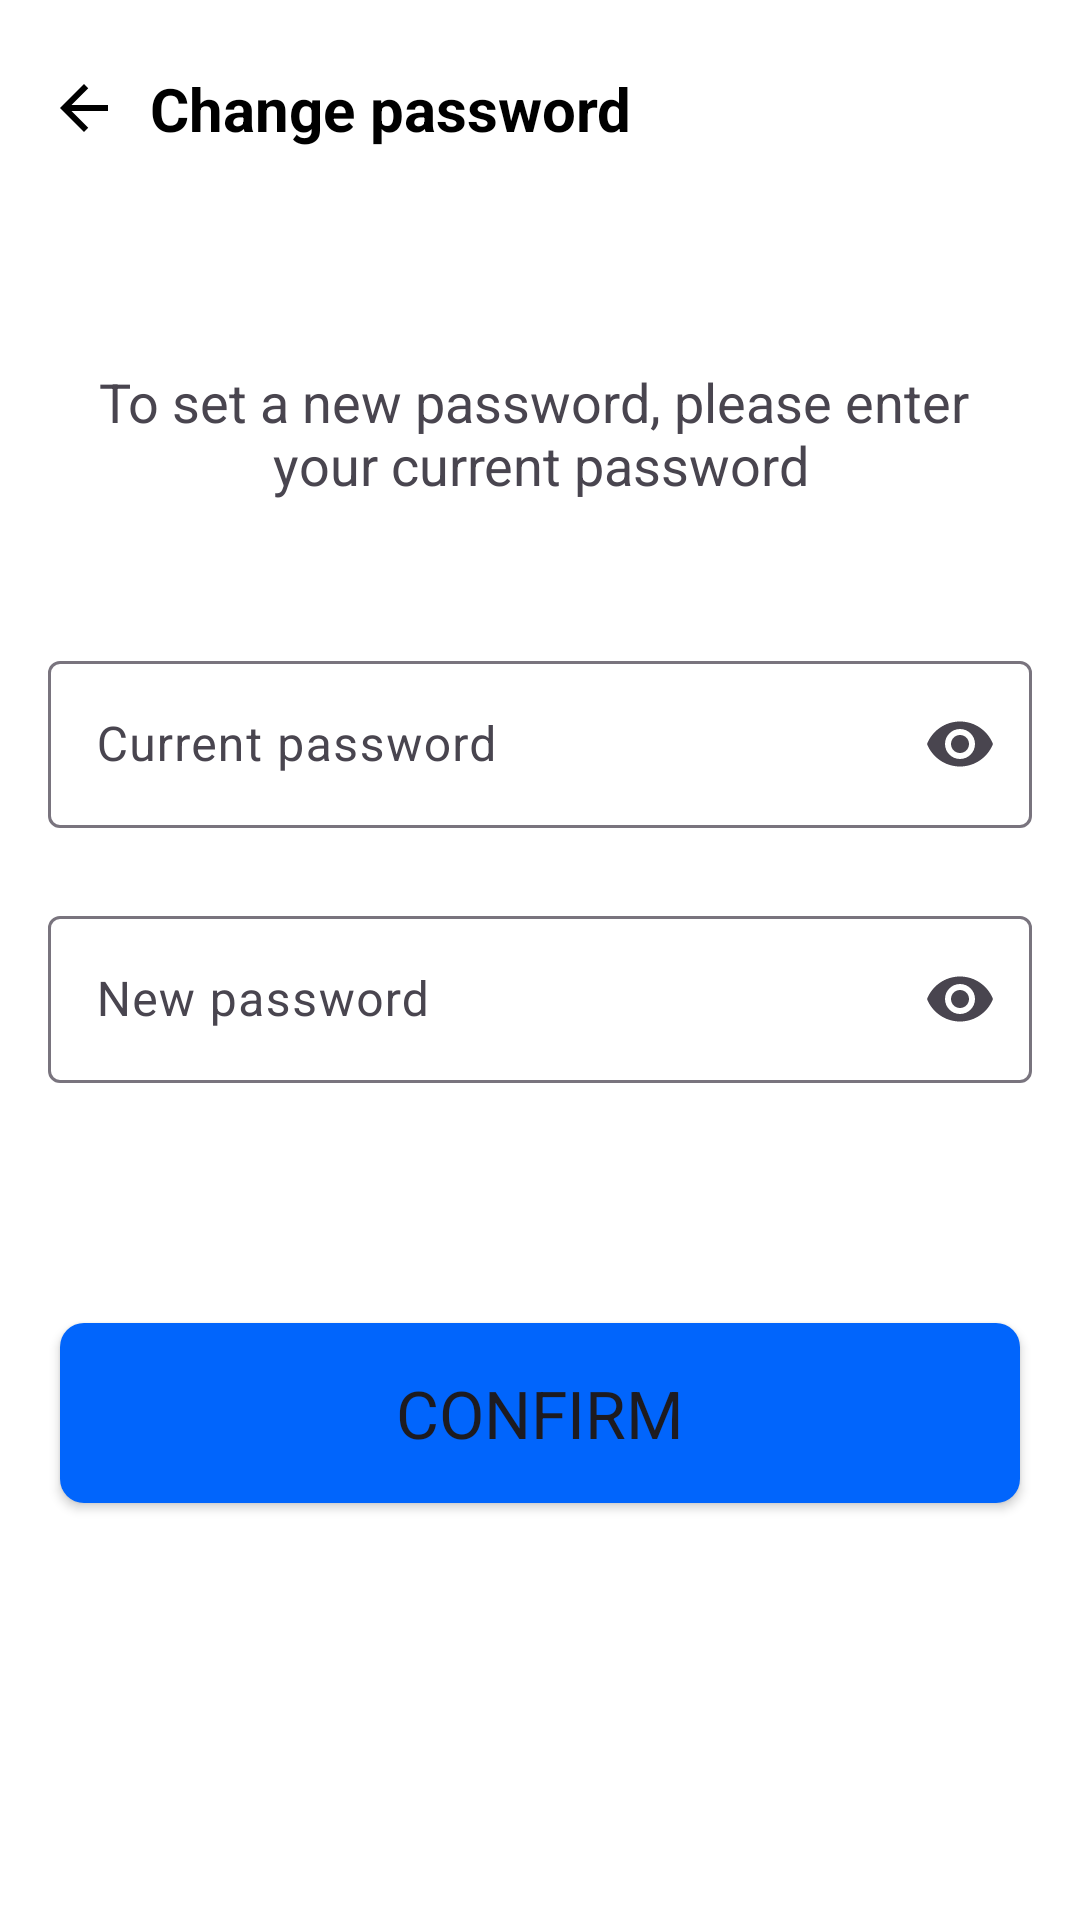

Screen size 1080 × 1920. Icon name, then its center in pixels as [x,y]:
left arrow: [84,108]
